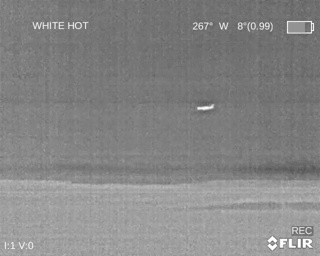AIRPLANE: (195, 103, 215, 111)
